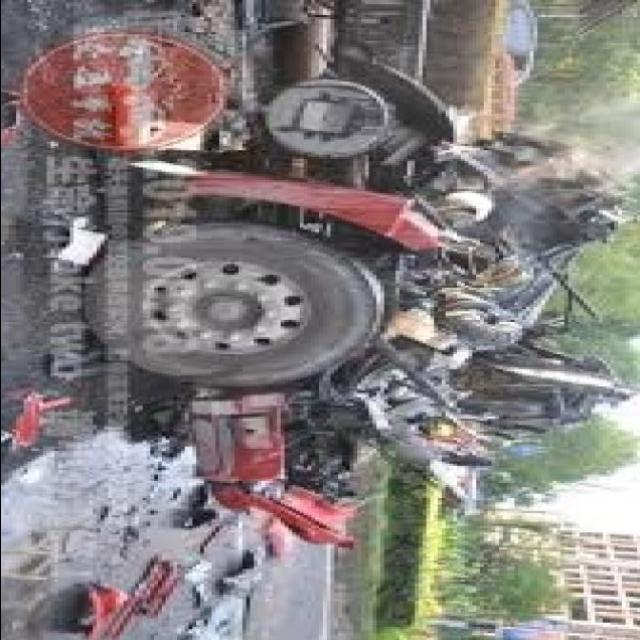accident: (121, 1, 640, 583)
